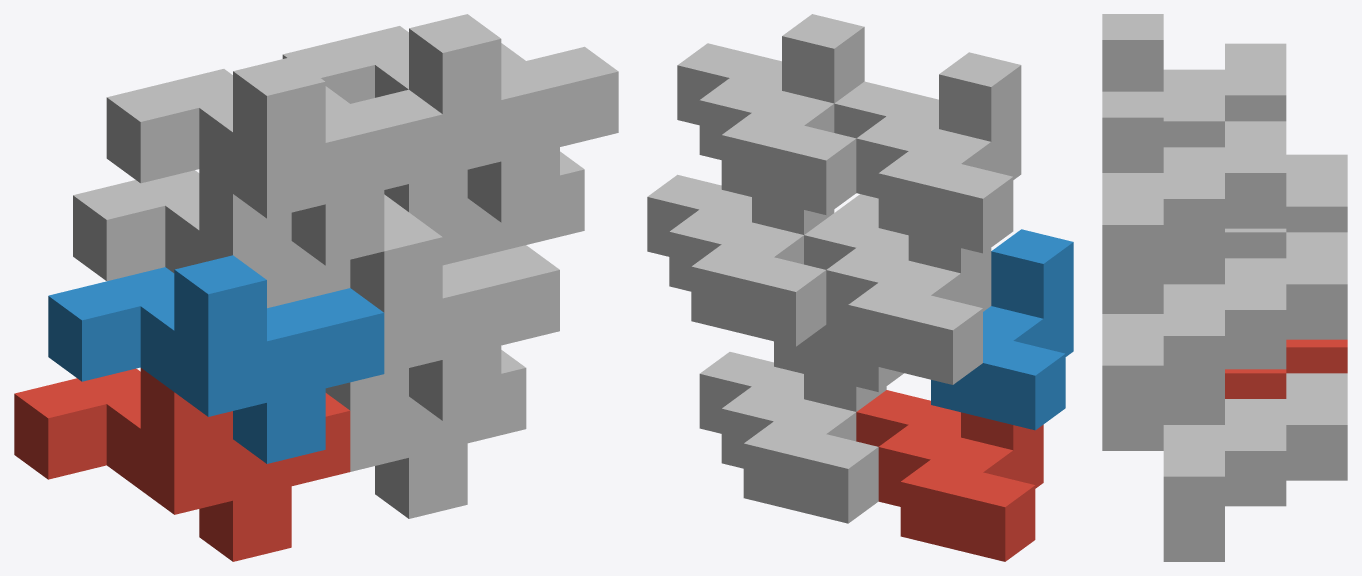
File: tiling.obj
3 views of the same model, side by side, from view 1: azimuth 30°, elevation 25°; view 2: azimuth 150°, elevation 25°; view 3: azimuth 270°, elevation 25° (orthographic). The views are drawn at different scales.
Visible parts, largest first — view 1: copy_1_domain_4, copy_1_domain_2, copy_1_domain_8, copy_1_domain_1, copy_1_domain_6, copy_1_domain_3, copy_1_domain_5, copy_1_domain_7; view 2: copy_1_domain_4, copy_1_domain_8, copy_1_domain_1, copy_1_domain_3, copy_1_domain_5, copy_1_domain_7, copy_1_domain_2, copy_1_domain_6; view 3: copy_1_domain_8, copy_1_domain_7, copy_1_domain_5, copy_1_domain_4, copy_1_domain_6, copy_1_domain_3, copy_1_domain_1.
Part boxes in pixels (x1,y1,x2,y2): copy_1_domain_4: (106, 57, 442, 265); copy_1_domain_2: (48, 255, 384, 463); copy_1_domain_8: (282, 14, 618, 222); copy_1_domain_1: (14, 368, 350, 561); copy_1_domain_6: (350, 212, 559, 420); copy_1_domain_3: (73, 169, 408, 308); copy_1_domain_5: (325, 350, 526, 518); copy_1_domain_7: (384, 151, 584, 265); copy_1_domain_4: (834, 52, 1021, 253); copy_1_domain_8: (677, 14, 864, 214); copy_1_domain_1: (856, 390, 1043, 561); copy_1_domain_3: (804, 213, 991, 384); copy_1_domain_5: (699, 352, 886, 523); copy_1_domain_7: (647, 174, 834, 346); copy_1_domain_2: (931, 229, 1073, 430); copy_1_domain_6: (774, 194, 903, 391); copy_1_domain_8: (1102, 91, 1286, 309); copy_1_domain_7: (1163, 232, 1347, 421); copy_1_domain_5: (1163, 373, 1347, 561); copy_1_domain_4: (1102, 14, 1286, 147); copy_1_domain_6: (1102, 310, 1286, 450); copy_1_domain_3: (1225, 154, 1347, 258); copy_1_domain_1: (1225, 339, 1347, 398).
Size of the model in its own units: 8 by 8 by 4.
